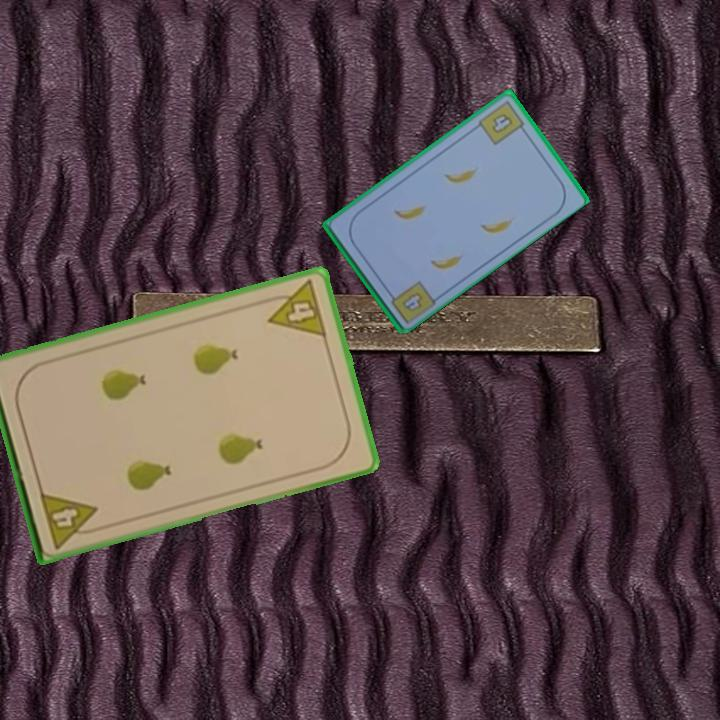4b: (475, 97, 529, 148), (398, 288, 426, 315)
4p: (259, 276, 330, 340), (36, 488, 104, 551)
